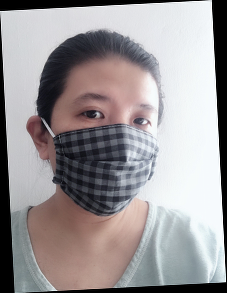with_mask: (49, 91, 163, 219)
